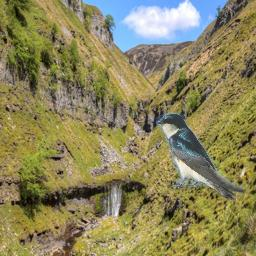Swallow: (156, 113, 246, 200)
